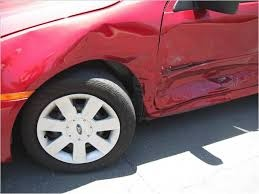Dent: (150, 62, 259, 112), (55, 22, 160, 69)
